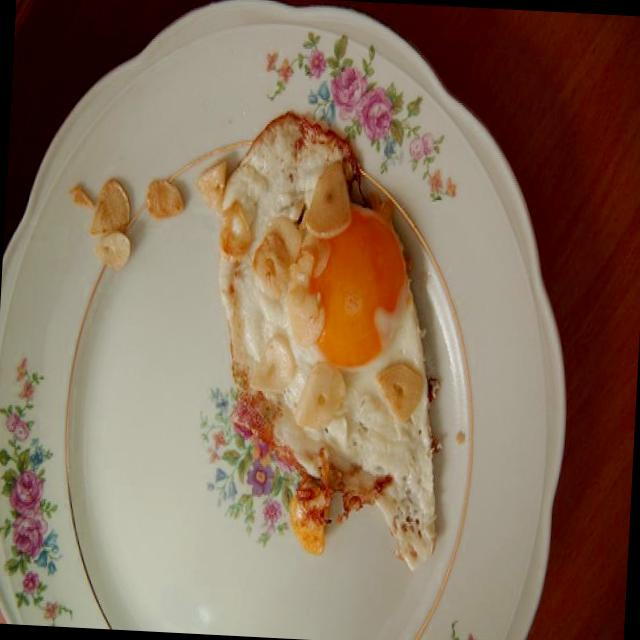Egg: (190, 92, 474, 576)
